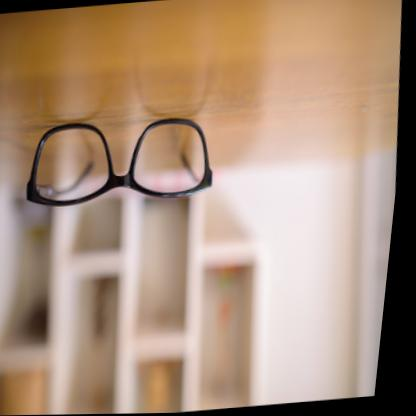Spectacles: (23, 111, 225, 213)
